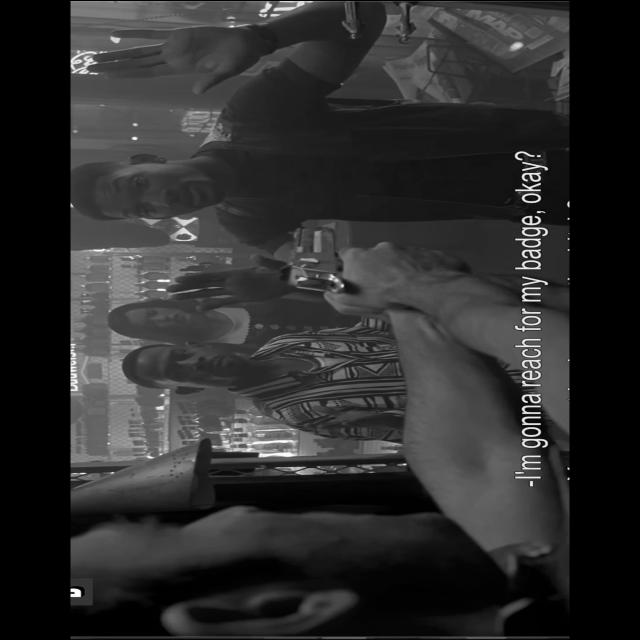weapons: (270, 218, 430, 312)
